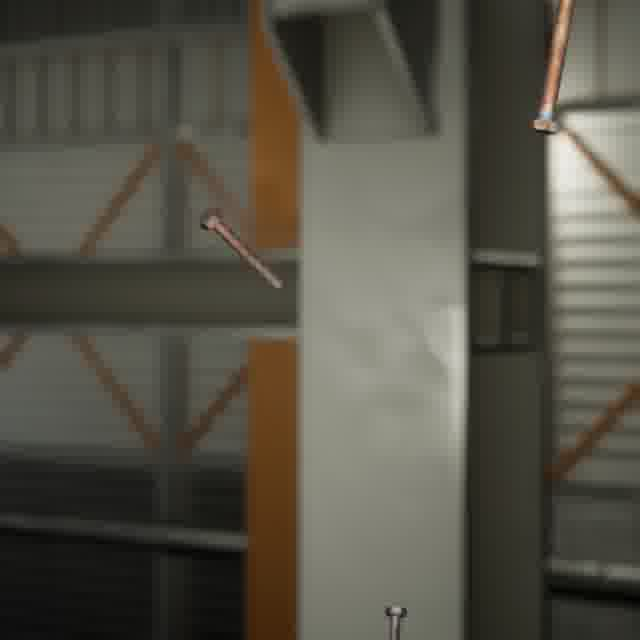bolt: (194, 202, 287, 294), (526, 0, 579, 138), (380, 601, 411, 640)
